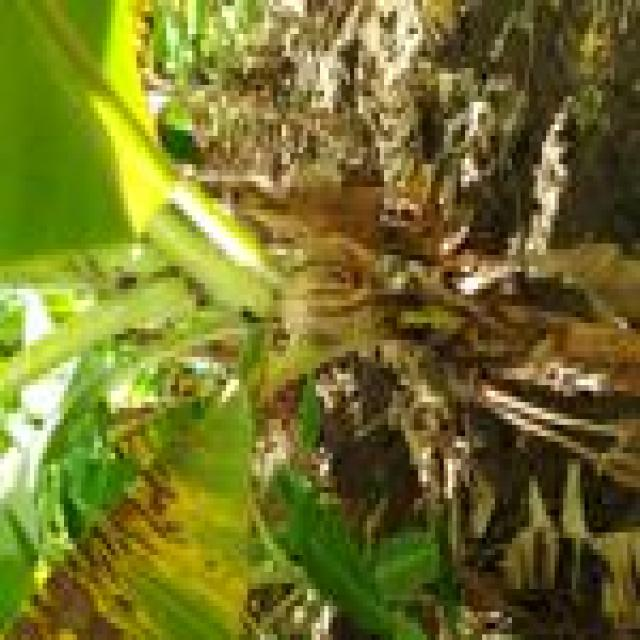Early_rust: (0, 374, 265, 640), (364, 241, 612, 453)
